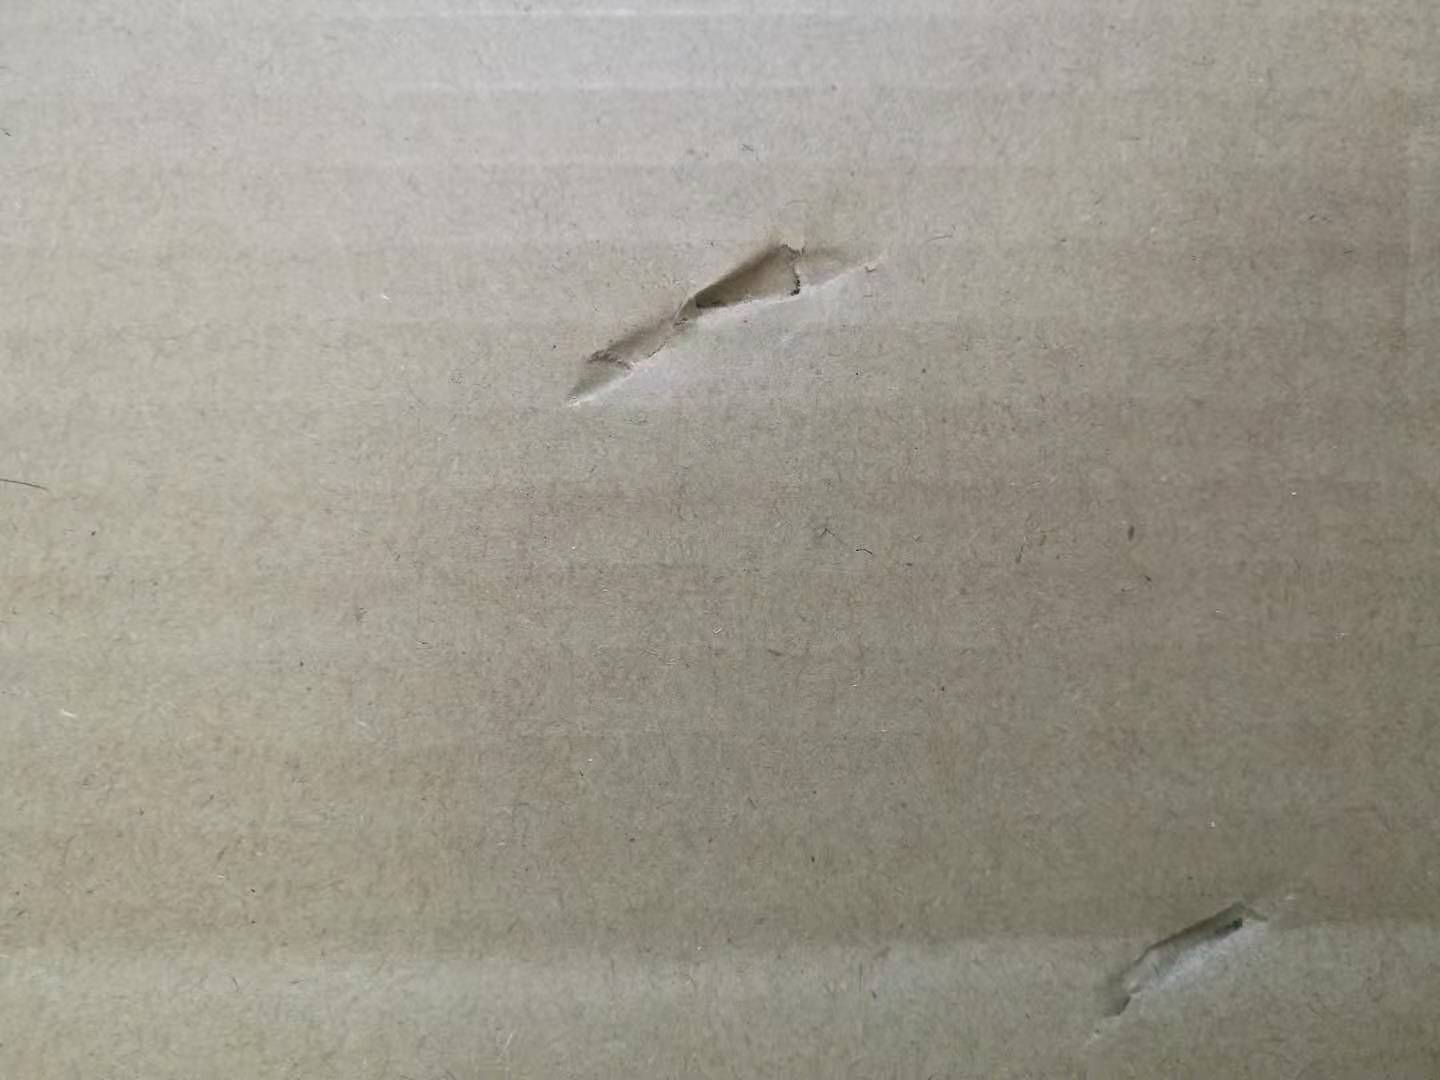defect: (539, 195, 916, 417), (1052, 877, 1321, 1062)
